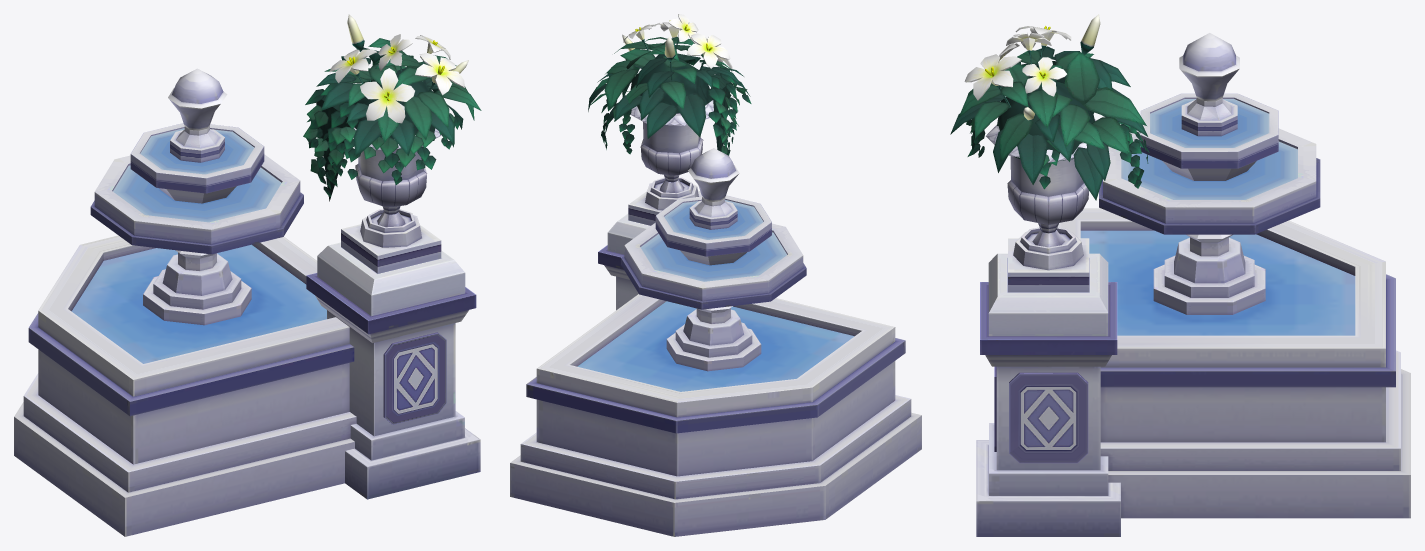
File: my_gehennaparty_01_fountain_02.glb
3 renders of one model, left to right at view 1: azimuth 30°, elevation 25°; view 2: azimuth 150°, elevation 25°; view 3: azimuth 270°, elevation 25°, orthographic. The views are drawn at different scales.
Parts seen in each view (by area): view 1: my_gehennaparty_01_fountain_02; view 2: my_gehennaparty_01_fountain_02; view 3: my_gehennaparty_01_fountain_02.
Boxes of the visible parts, bbox=[...] form: my_gehennaparty_01_fountain_02: bbox=[14, 14, 481, 536]; my_gehennaparty_01_fountain_02: bbox=[510, 14, 921, 536]; my_gehennaparty_01_fountain_02: bbox=[950, 14, 1410, 536].
Size of the model in its own units: 0.00848 by 0.00997 by 0.00864.
Materials: 1 (1 with a texture image).
